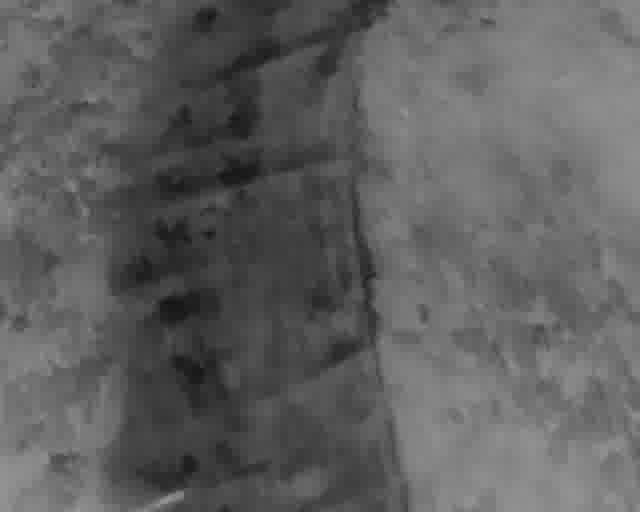car: (327, 161, 336, 175), (232, 36, 241, 48), (335, 177, 344, 189)
person: (324, 165, 327, 171), (227, 39, 230, 44), (321, 163, 323, 170), (327, 156, 329, 161), (324, 160, 326, 164), (323, 153, 325, 157), (324, 156, 325, 160)
